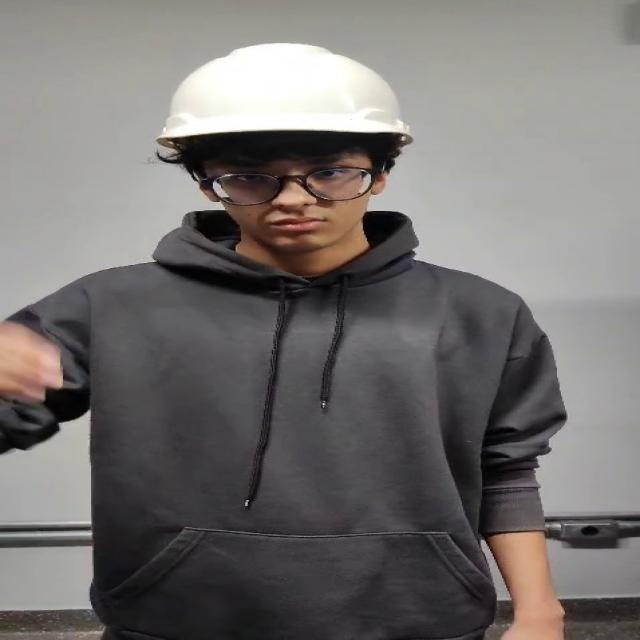capacete: (132, 32, 465, 204)
